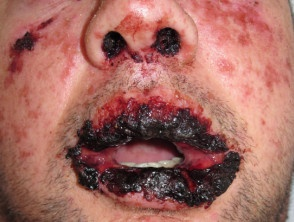SJS-TEN: (40, 62, 264, 222), (0, 0, 76, 97), (89, 9, 191, 79)
